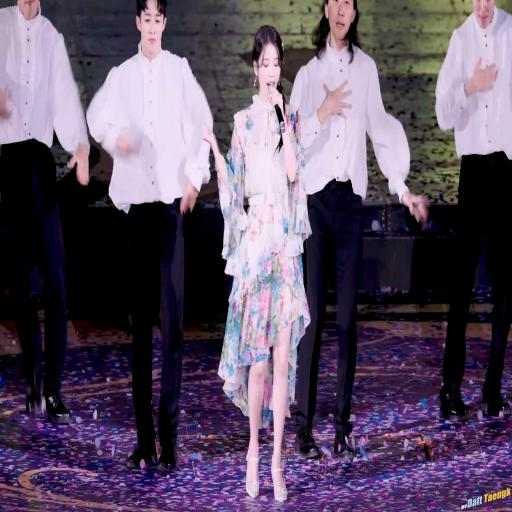IU: (252, 24, 284, 102)
